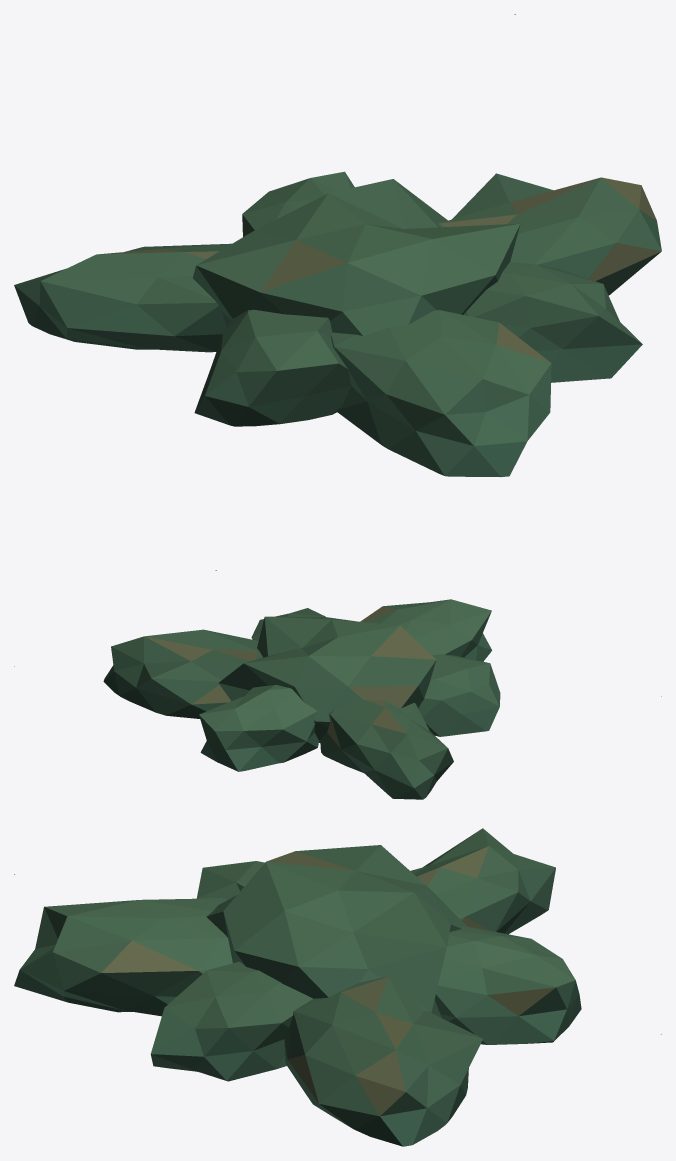
Rendered from Juniper1_leaf.glb.
The picture shows the model from 3 angles, top to bottom: view 1: azimuth 30°, elevation 25°; view 2: azimuth 150°, elevation 25°; view 3: azimuth 270°, elevation 25°; orthographic projection. The views are drawn at different scales.
Parts seen in each view (by area): view 1: Juniper1_leaf; view 2: Juniper1_leaf; view 3: Juniper1_leaf.
Part boxes in pixels (<box>): Juniper1_leaf: <box>14,14,661,570</box>; Juniper1_leaf: <box>14,599,661,799</box>; Juniper1_leaf: <box>14,828,661,1146</box>.
Size of the model in its own units: 7.32 by 1.55 by 6.82.
